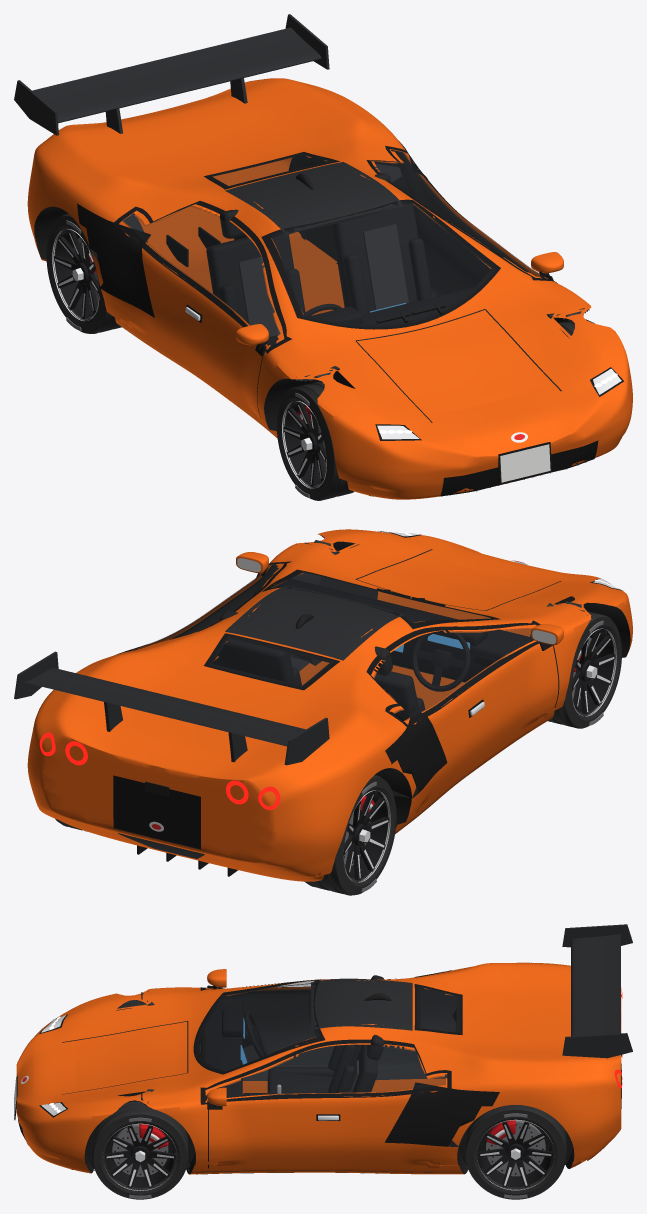
The model's file is agerars.glb.
3 views of the same model, one above another, from view 1: azimuth 30°, elevation 25°; view 2: azimuth 150°, elevation 25°; view 3: azimuth 270°, elevation 25° (orthographic). The views are drawn at different scales.
Visible parts, largest first — view 1: Body, Wheel_FR, Wheel_RR; view 2: Body, Wheel_RR, Wheel_FR; view 3: Body, Wheel_RL, Wheel_FL.
Part boxes in pixels (left/top/right/bottom): Body: left=14, top=14, right=632, bottom=499; Wheel_FR: left=276, top=381, right=354, bottom=500; Wheel_RR: left=46, top=213, right=121, bottom=333; Body: left=14, top=529, right=632, bottom=881; Wheel_RR: left=304, top=775, right=396, bottom=895; Wheel_FR: left=548, top=611, right=621, bottom=728; Body: left=14, top=924, right=632, bottom=1174; Wheel_RL: left=465, top=1105, right=566, bottom=1199; Wheel_FL: left=92, top=1101, right=188, bottom=1199.
Bounding box in the file's own units: 2.18 × 1.28 × 4.39.
